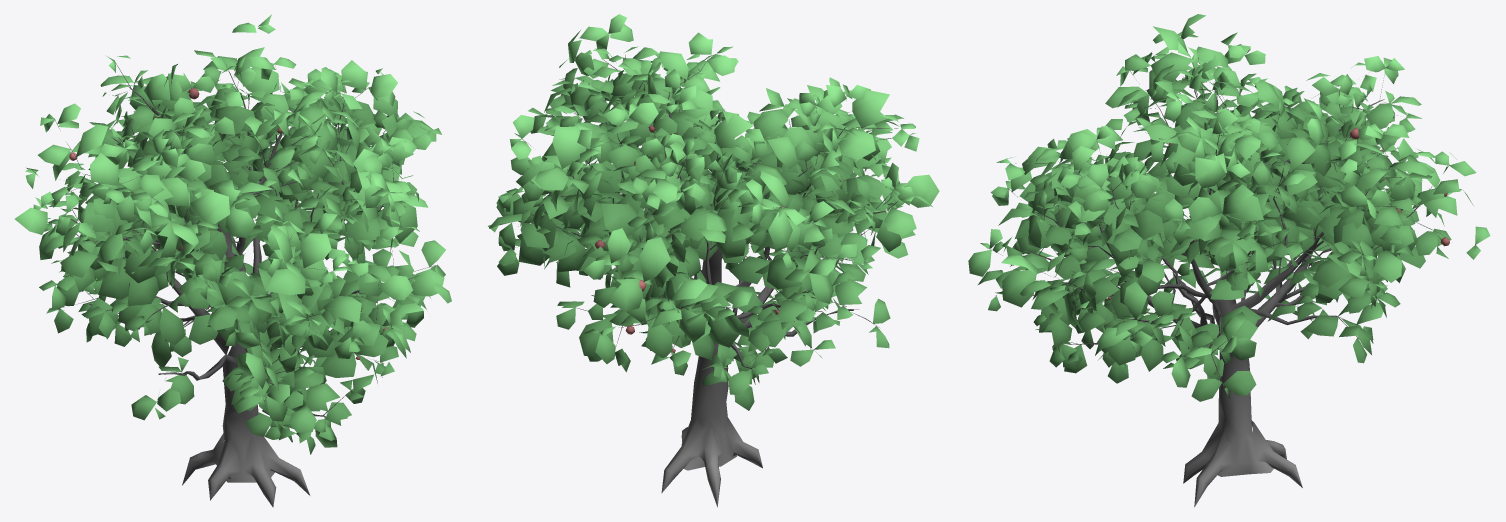
File: SM_tree_orange_A.gltf
3 renders of one model, left to right at view 1: azimuth 30°, elevation 25°; view 2: azimuth 150°, elevation 25°; view 3: azimuth 270°, elevation 25°, orthographic.
Parts seen in each view (by area): view 1: SM_tree_orange_A; view 2: SM_tree_orange_A; view 3: SM_tree_orange_A.
Boxes of the visible parts, x1,y1,x2,y2 form: SM_tree_orange_A: (15, 14, 451, 507); SM_tree_orange_A: (488, 14, 939, 507); SM_tree_orange_A: (968, 14, 1490, 507).
Bounding box in the file's own units: 3.66 × 3.57 × 3.99.
